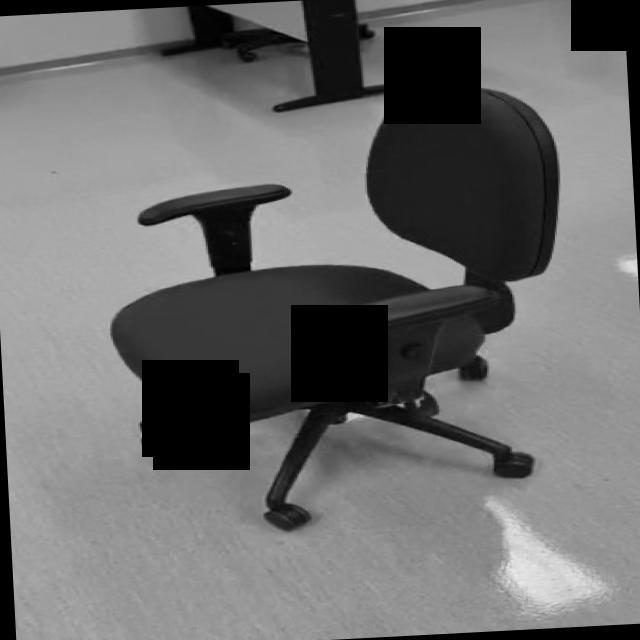chair: (99, 81, 578, 540)
